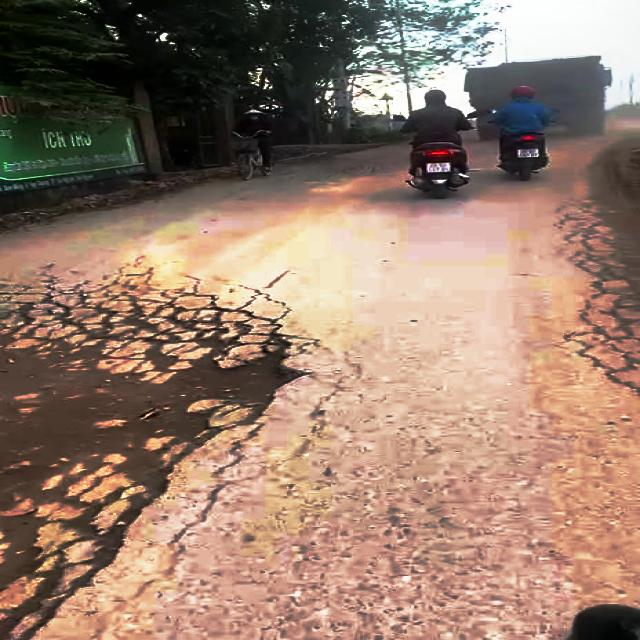pothole: (0, 289, 326, 640)
